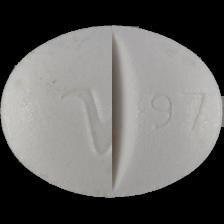0615-7756: (0, 0, 224, 224)
